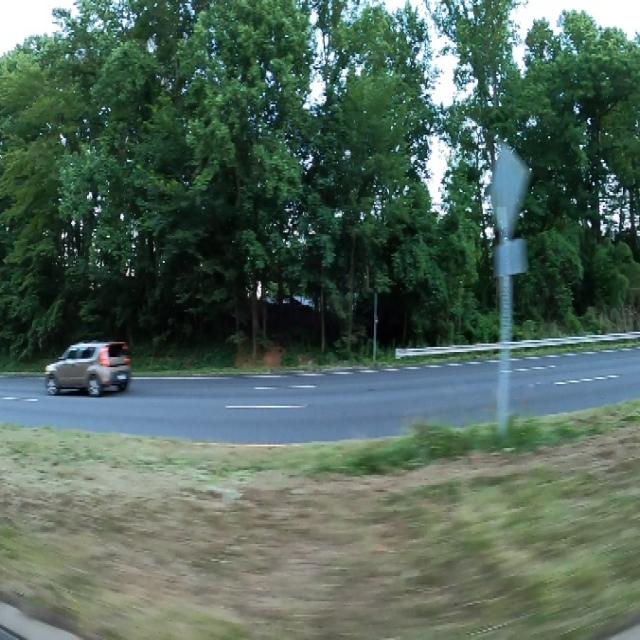cars: (44, 333, 132, 408)
